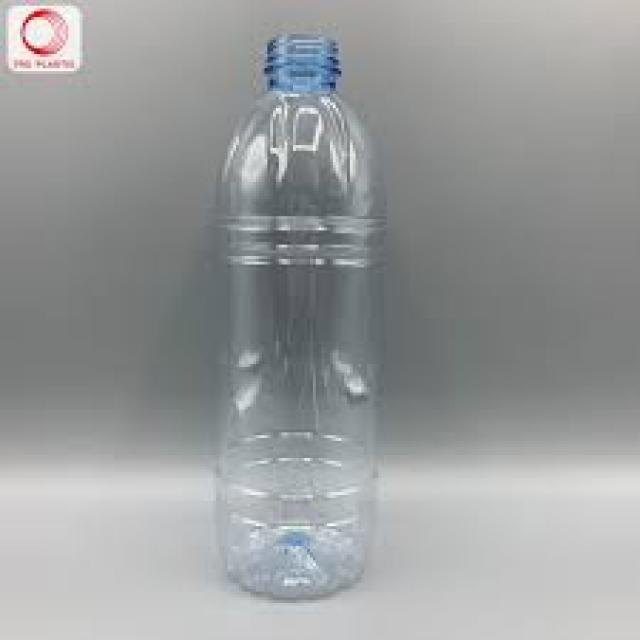plastic bottle: (193, 21, 391, 615)
